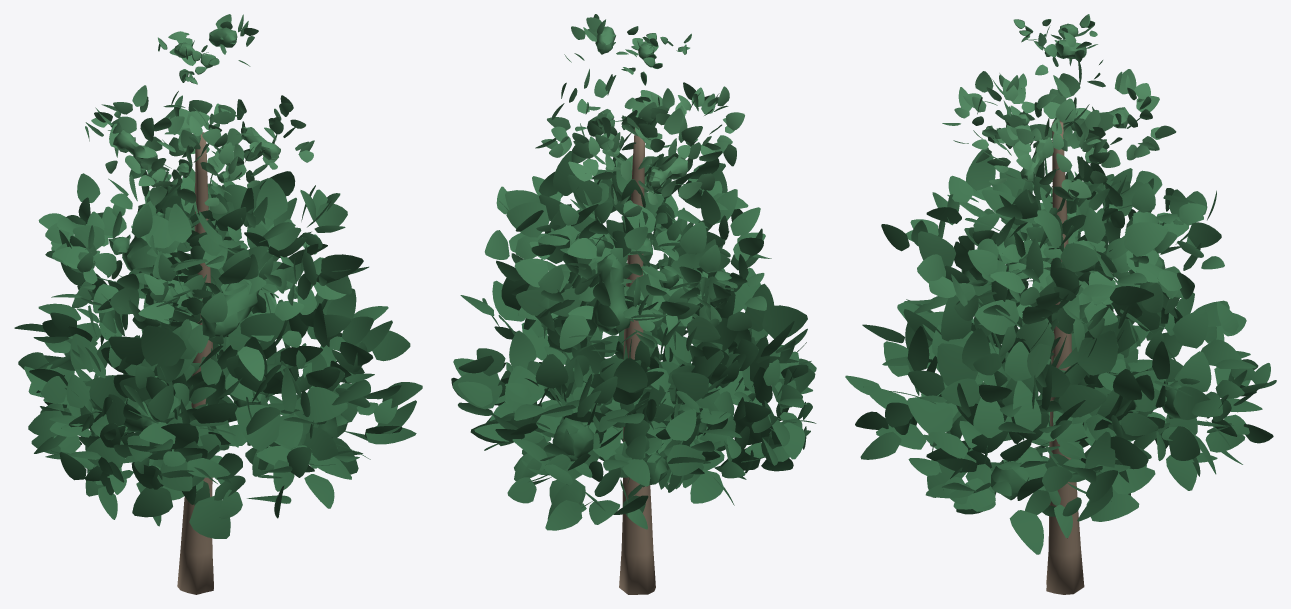
The model's file is tree_pine.glb.
The picture shows the model from 3 angles, left to right: view 1: azimuth 30°, elevation 25°; view 2: azimuth 150°, elevation 25°; view 3: azimuth 270°, elevation 25°; orthographic projection. The views are drawn at different scales.
Parts seen in each view (by area): view 1: tree_pine; view 2: tree_pine; view 3: tree_pine.
Boxes of the visible parts, x1,y1,x2,y2 form: tree_pine: (14, 14, 422, 594); tree_pine: (451, 14, 816, 594); tree_pine: (845, 14, 1276, 594).
Size of the model in its own units: 4.11 by 6.36 by 4.36.
